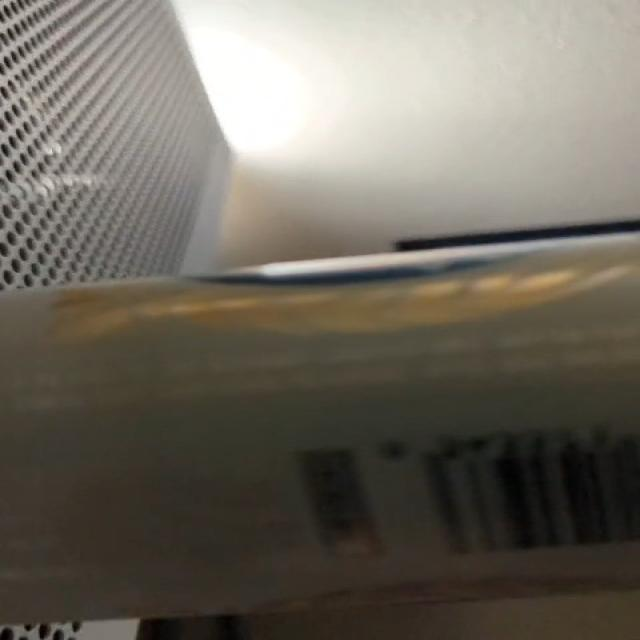metal: (2, 235, 636, 639)
